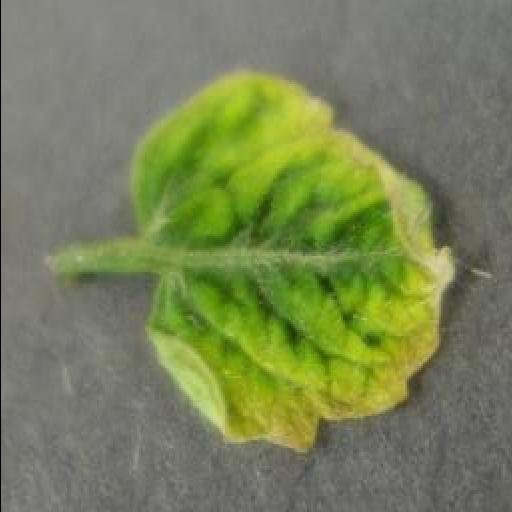disease_tomato: (122, 68, 458, 456)
